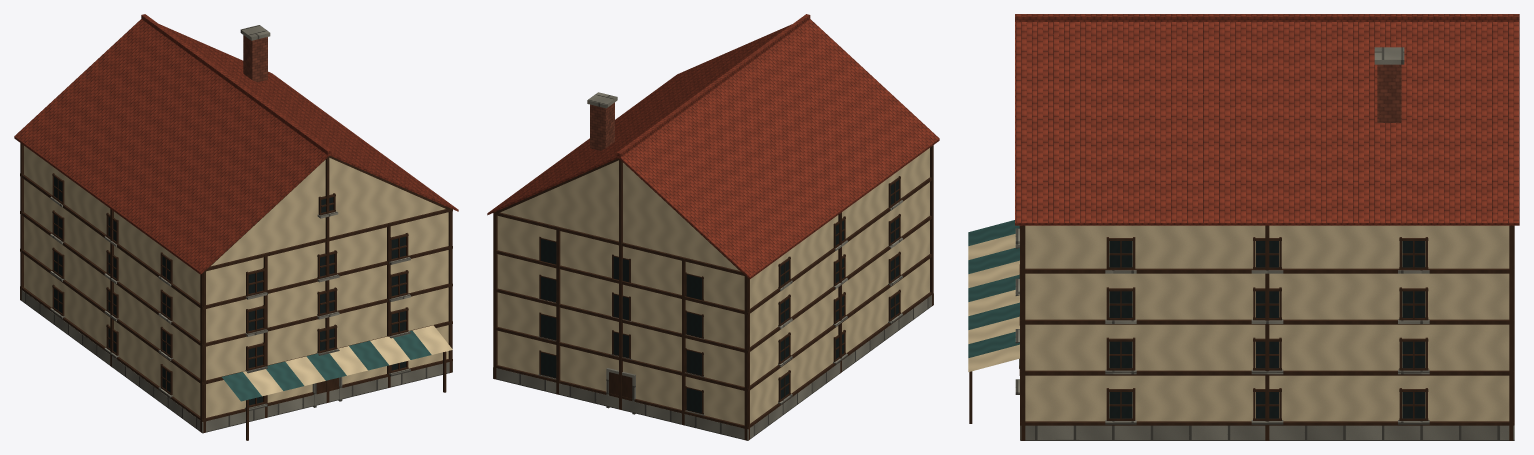
File: SG_Warehouse_LOD1.fbx
The picture shows the model from 3 angles, left to right: view 1: azimuth 30°, elevation 25°; view 2: azimuth 150°, elevation 25°; view 3: azimuth 270°, elevation 25°; orthographic projection. The views are drawn at different scales.
Visible parts, largest first — view 1: SG_Warehouse_Detail1; view 2: SG_Warehouse_Detail1; view 3: SG_Warehouse_Detail1.
Part boxes in pixels (x1,y1,x2,y2): SG_Warehouse_Detail1: (14,14,458,440); SG_Warehouse_Detail1: (487,14,939,440); SG_Warehouse_Detail1: (968,14,1519,440).
Bounding box in the file's own units: 31.4 × 29.95 × 42.95.
